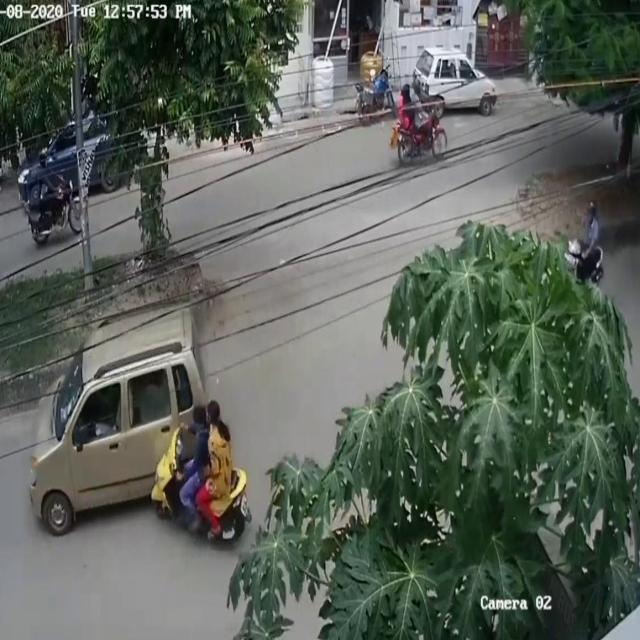accident: (8, 297, 258, 551)
